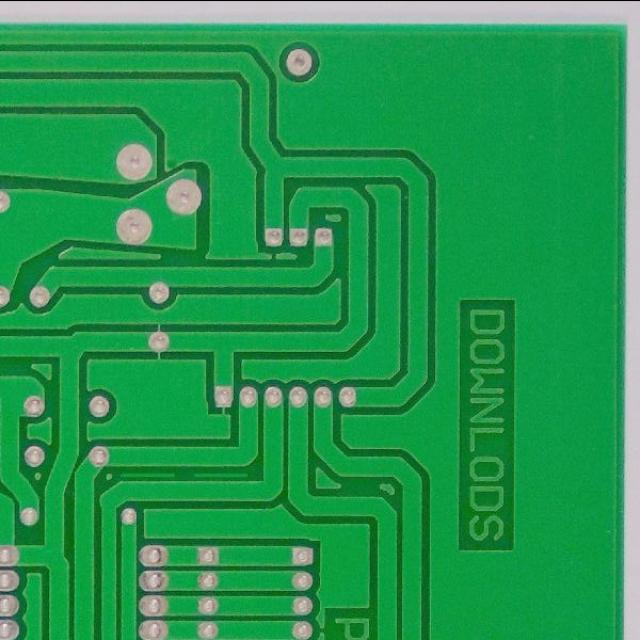spurious_copper: (189, 463, 255, 485), (117, 462, 178, 484)
